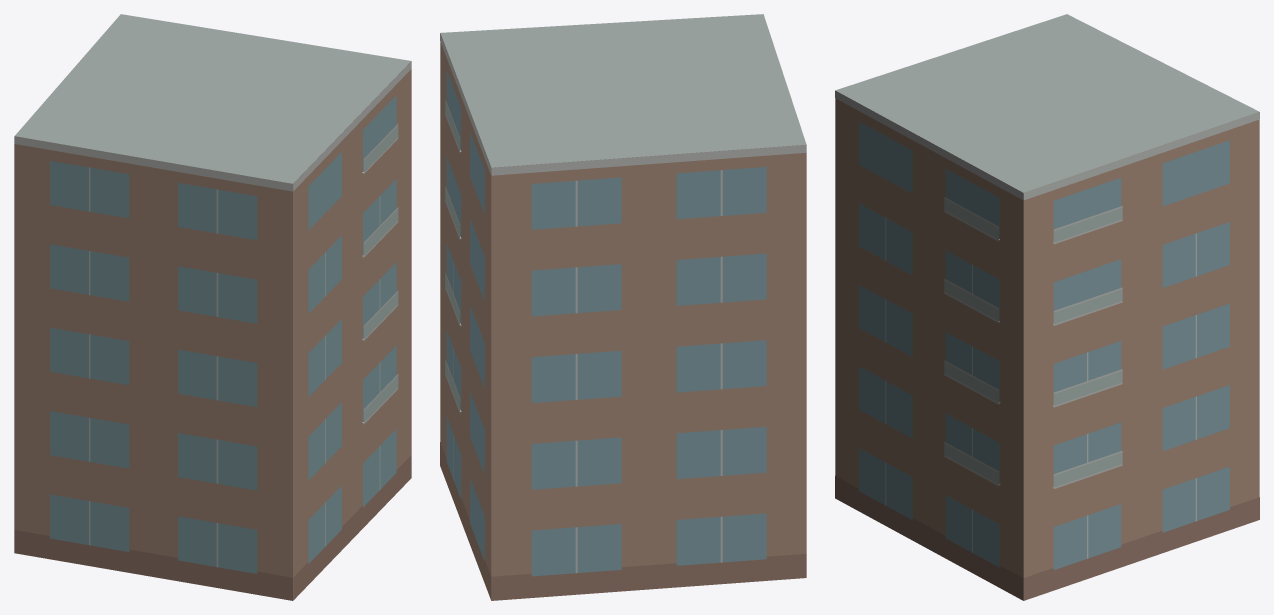
File: survey-upis-32708011.glb
3 views of the same model, side by side, from view 1: azimuth 30°, elevation 25°; view 2: azimuth 150°, elevation 25°; view 3: azimuth 270°, elevation 25° (orthographic). The views are drawn at different scales.
Visible parts, largest first — view 1: survey-upis-32708011.tmp; view 2: survey-upis-32708011.tmp; view 3: survey-upis-32708011.tmp.
Boxes of the visible parts, x1,y1,x2,y2 form: survey-upis-32708011.tmp: [14, 14, 411, 600]; survey-upis-32708011.tmp: [440, 14, 806, 600]; survey-upis-32708011.tmp: [835, 14, 1259, 600].
Size of the model in its own units: 12.35 by 13.12 by 12.39.
